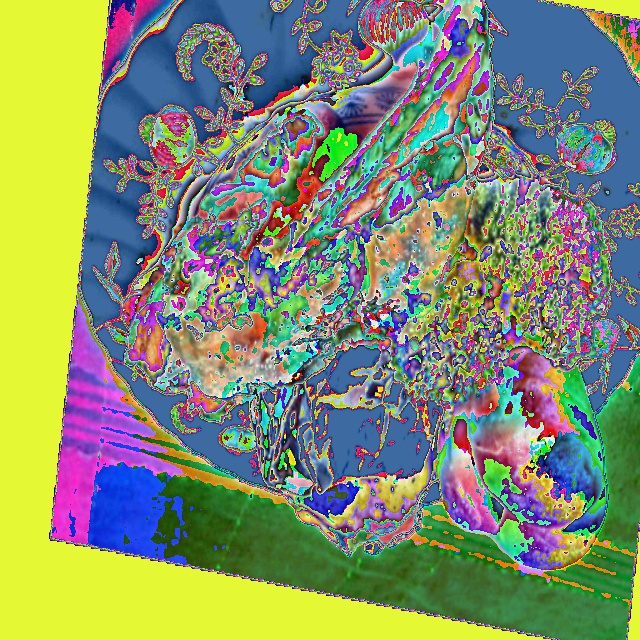background: (123, 0, 612, 574)
